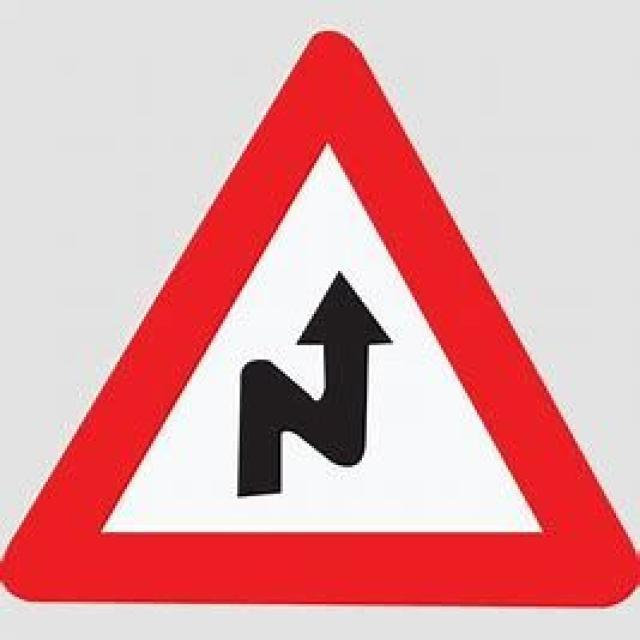right reverse bend: (17, 35, 620, 607)
